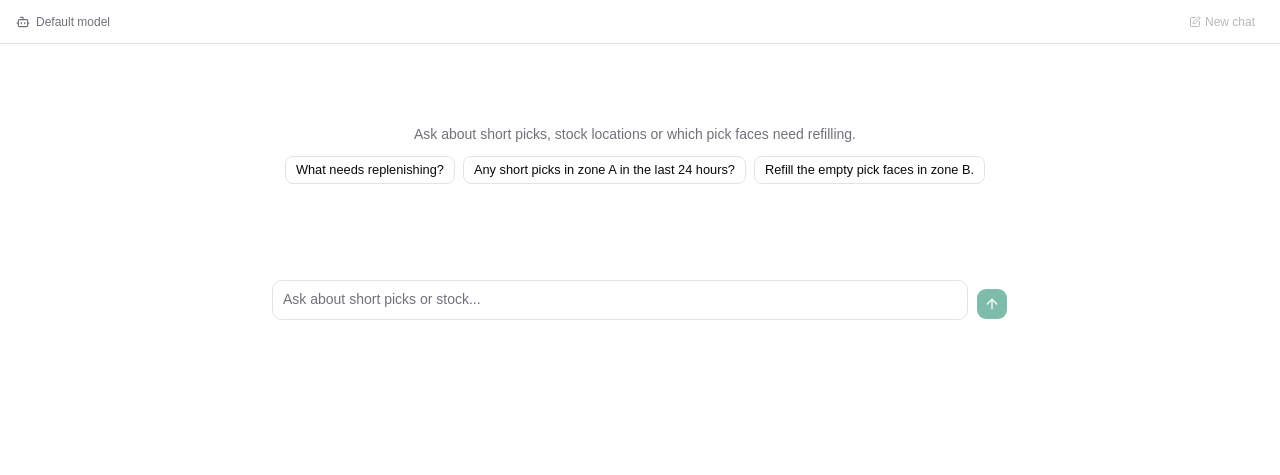
Test: Chat › blocks new messages while a task is waiting for approval
Type "Refill it" into the text box named "Message" at (620, 300), box [272, 280, 968, 320]
Then press Enter
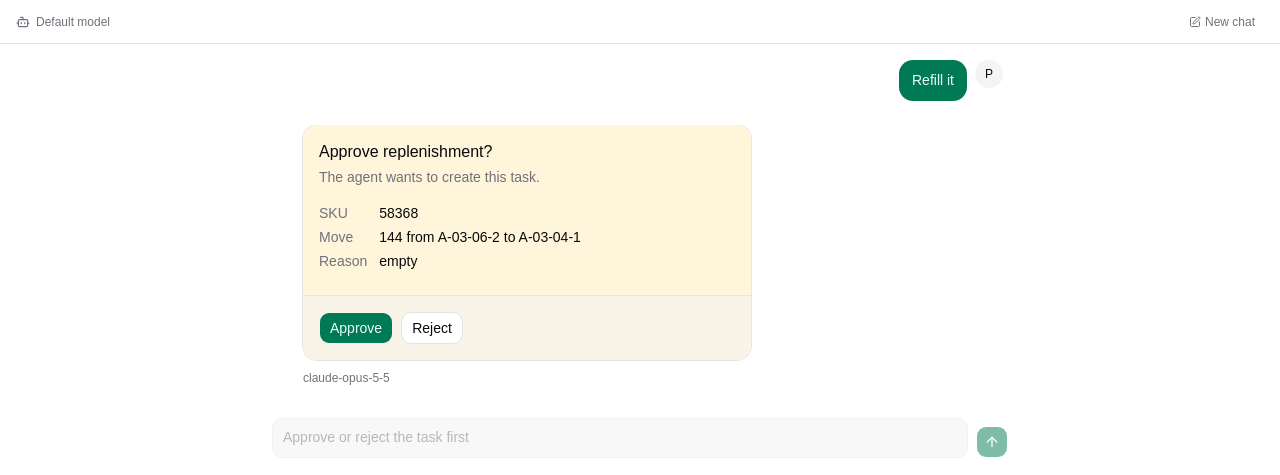
Expected: the button "Approve" is shown, [319, 312, 393, 344]
Expected: the text box named "Message" is disabled, [272, 418, 968, 458]
